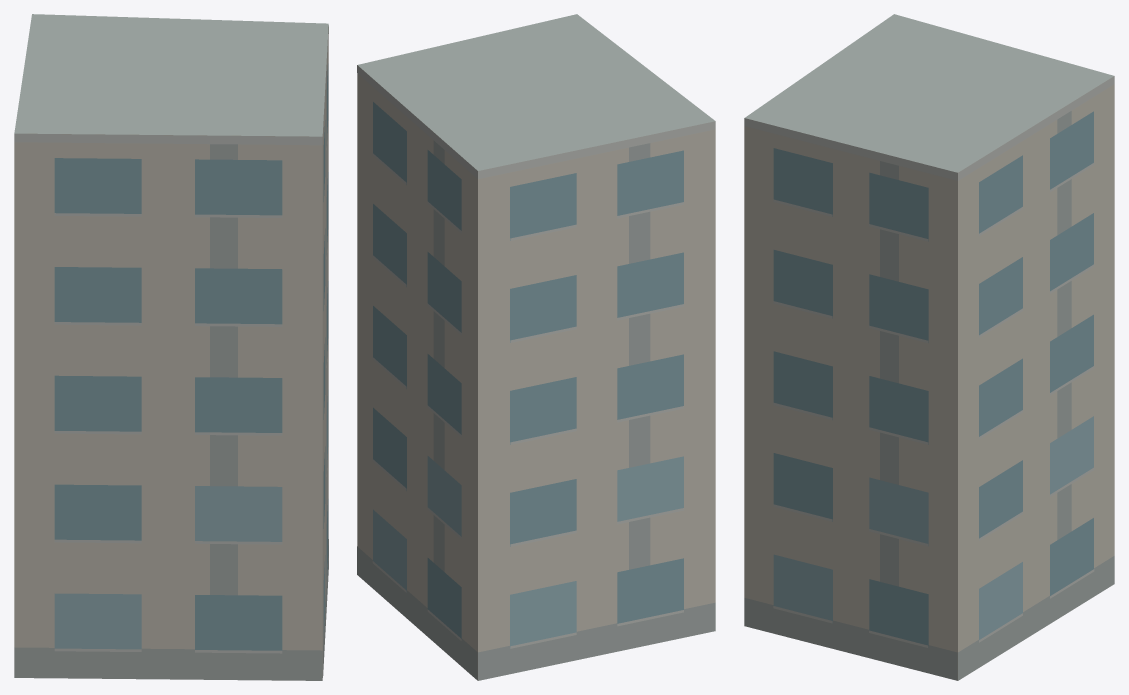
Rendered from survey-upis-32772555.glb.
3 views of the same model, side by side, from view 1: azimuth 30°, elevation 25°; view 2: azimuth 150°, elevation 25°; view 3: azimuth 270°, elevation 25° (orthographic). The views are drawn at different scales.
Parts seen in each view (by area): view 1: survey-upis-32772555.tmp; view 2: survey-upis-32772555.tmp; view 3: survey-upis-32772555.tmp.
Part boxes in pixels (x1,y1,x2,y2): survey-upis-32772555.tmp: [14, 14, 328, 680]; survey-upis-32772555.tmp: [357, 14, 715, 680]; survey-upis-32772555.tmp: [744, 14, 1114, 680].
Size of the model in its own units: 10.23 by 15.25 by 10.08.
